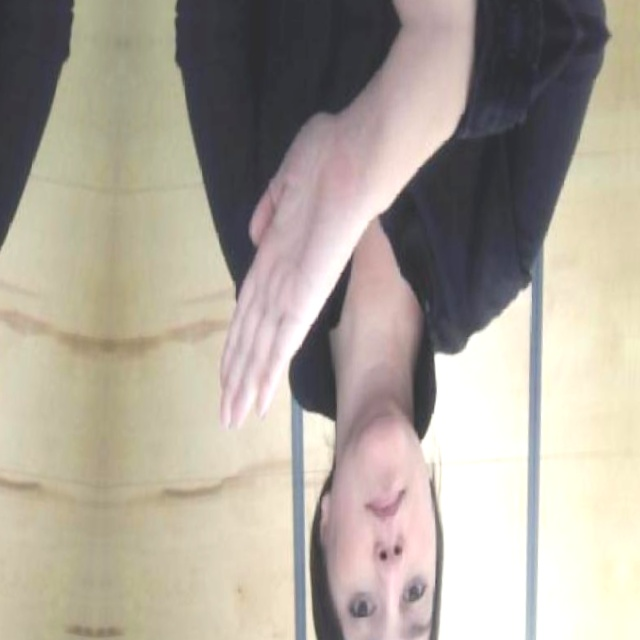Paper: (0, 79, 34, 428)
